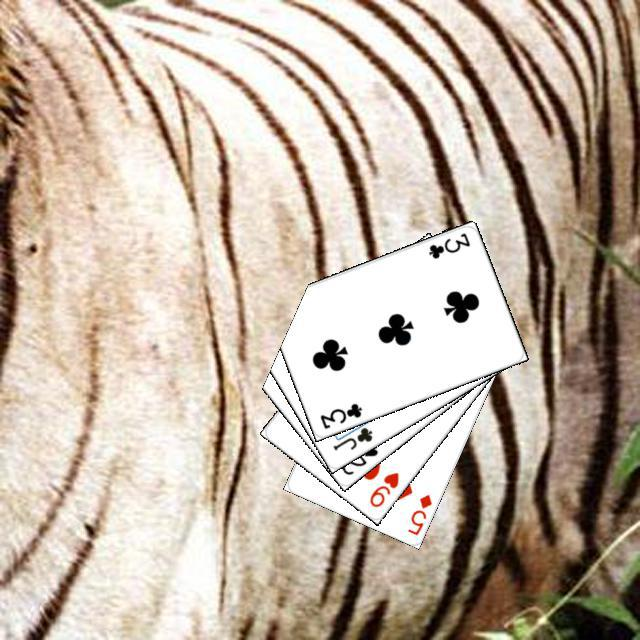2s: (337, 438, 380, 477)
3c: (315, 398, 364, 431), (423, 228, 472, 260)
5d: (403, 489, 434, 537)
9h: (364, 467, 401, 509)
Jc: (328, 422, 374, 452)
